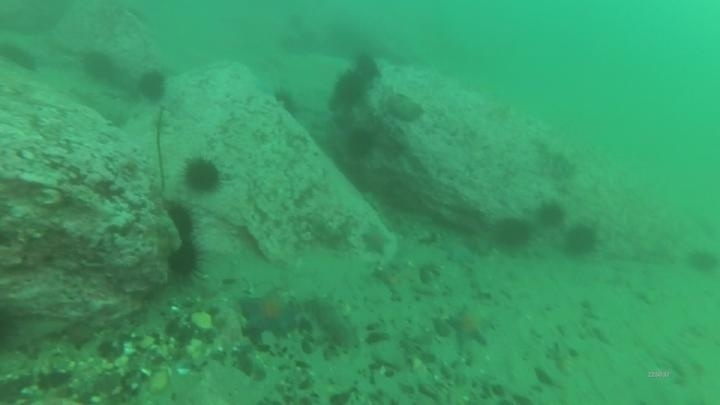echinus: (181, 155, 224, 196), (165, 240, 203, 281), (492, 215, 534, 252), (163, 200, 198, 243), (562, 222, 600, 259), (332, 70, 368, 108), (79, 49, 117, 84), (1, 40, 39, 73), (343, 126, 377, 161), (136, 68, 169, 104), (272, 87, 303, 121), (350, 51, 382, 83), (535, 199, 567, 230), (686, 247, 719, 276)
holothurian: (297, 291, 360, 352)
starfish: (238, 288, 300, 338), (445, 303, 496, 350), (372, 260, 418, 301), (434, 230, 477, 266), (358, 221, 392, 259)
